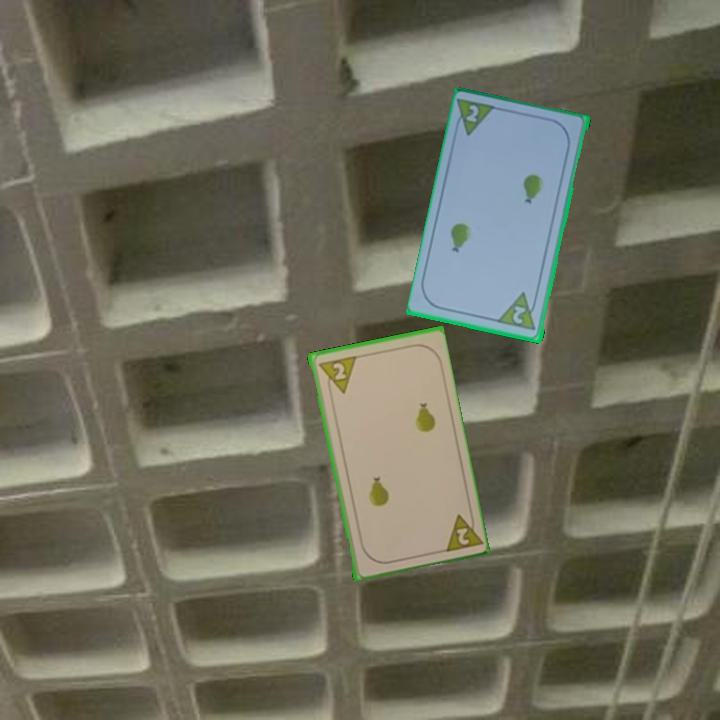2p: (439, 507, 483, 555), (314, 352, 358, 398), (509, 303, 529, 327), (463, 101, 482, 126)
